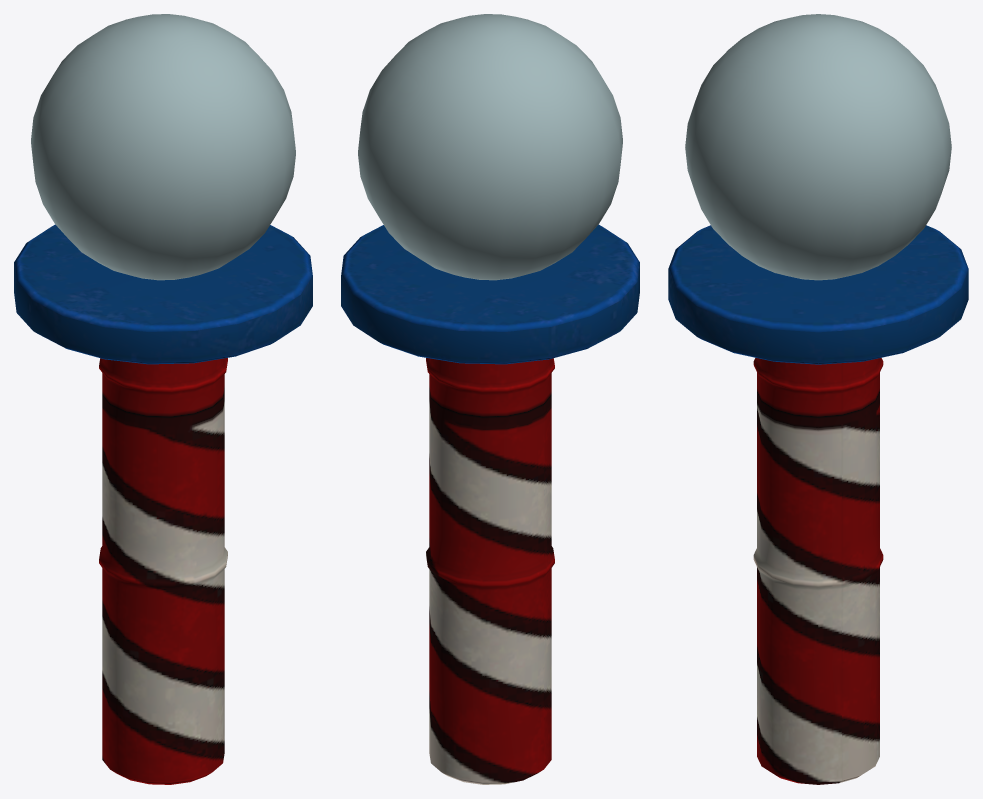
Rendered from FtrSouthpole.glb.
The picture shows the model from 3 angles, left to right: view 1: azimuth 30°, elevation 25°; view 2: azimuth 150°, elevation 25°; view 3: azimuth 270°, elevation 25°; orthographic projection.
Parts seen in each view (by area): view 1: Pole__mBody, Metal__mMetal; view 2: Pole__mBody, Metal__mMetal; view 3: Pole__mBody, Metal__mMetal.
Part boxes in pixels (<box>): Pole__mBody: <box>14,224,312,784</box>; Metal__mMetal: <box>31,14,295,280</box>; Pole__mBody: <box>341,224,639,784</box>; Metal__mMetal: <box>358,14,622,280</box>; Pole__mBody: <box>668,225,968,784</box>; Metal__mMetal: <box>685,14,951,280</box>.
Bounding box in the file's own units: 4.61 × 12.46 × 4.61.
Materials: 2 (2 with a texture image).
